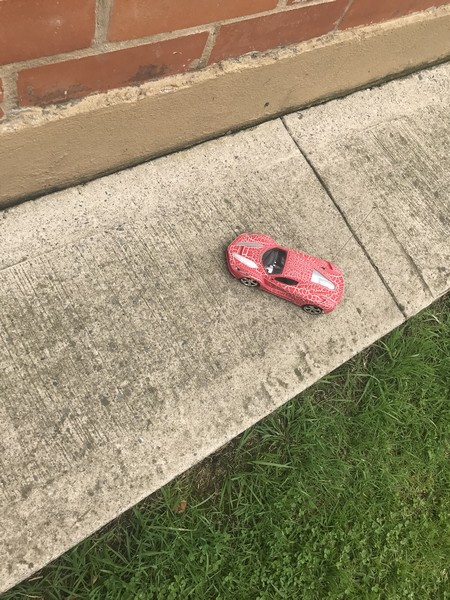RC: (225, 230, 347, 317)
